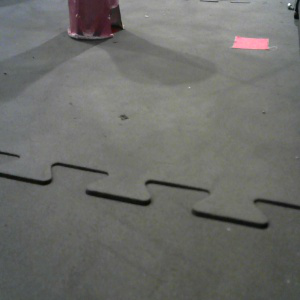right: (67, 1, 125, 41)
